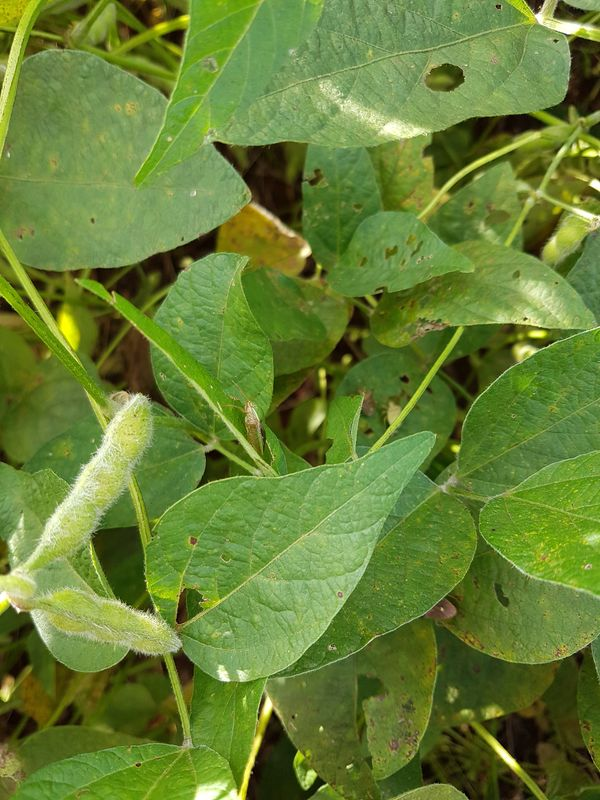Edessa_meditabunda: (213, 387, 287, 479)
Euschistus_heros_adulto: (417, 590, 466, 634)
